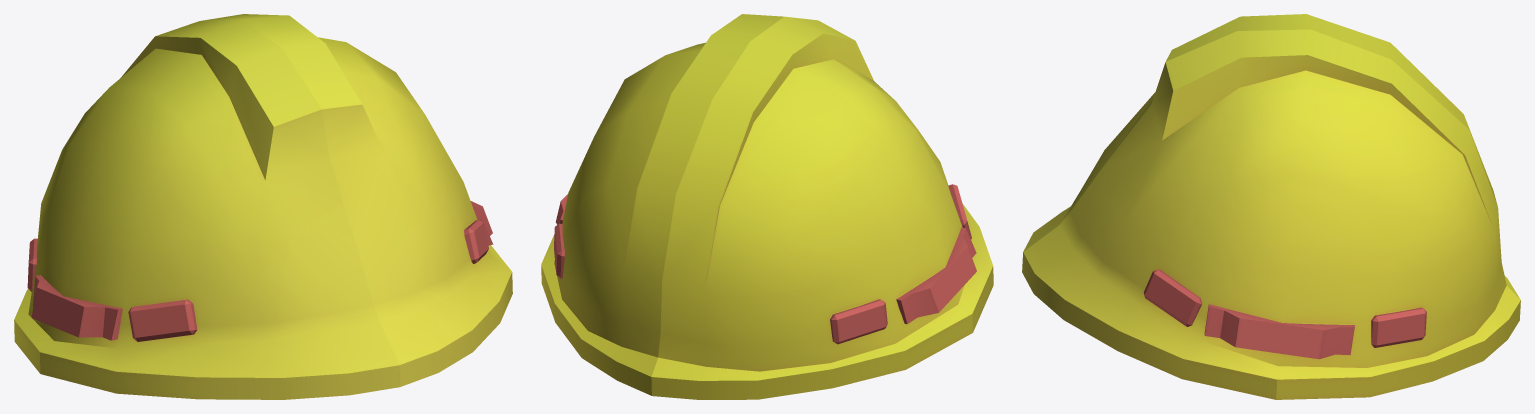
Rendered from importerSkin03Hat.fbx.
3 views of the same model, side by side, from view 1: azimuth 30°, elevation 25°; view 2: azimuth 150°, elevation 25°; view 3: azimuth 270°, elevation 25° (orthographic). The views are drawn at different scales.
Visible parts, largest first — view 1: importerSkin03_hat_geo; view 2: importerSkin03_hat_geo; view 3: importerSkin03_hat_geo.
Boxes of the visible parts, left/top/right/bottom form: importerSkin03_hat_geo: left=14, top=14, right=512, bottom=399; importerSkin03_hat_geo: left=541, top=14, right=993, bottom=399; importerSkin03_hat_geo: left=1022, top=14, right=1520, bottom=399.
Size of the model in its own units: 2.4 by 1.58 by 2.45.
Materials: 1 (1 with a texture image).
